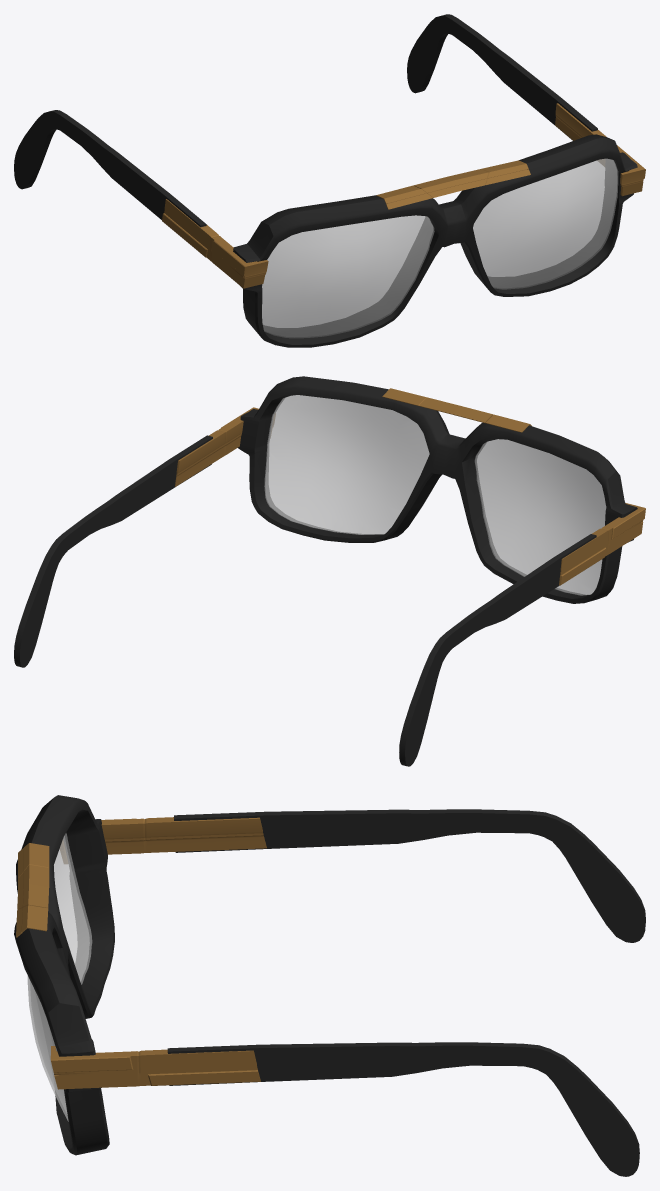
File: glasses.glb
3 renders of one model, top to bottom at view 1: azimuth 30°, elevation 25°; view 2: azimuth 150°, elevation 25°; view 3: azimuth 270°, elevation 25°, orthographic. The views are drawn at different scales.
Parts seen in each view (by area): view 1: Lens, Frame, TempleTip, Temples, Bridge; view 2: Lens, Frame, TempleTip, Temples, Bridge; view 3: TempleTip, Frame, Temples, Lens, Bridge.
Boxes of the visible parts, box(x1,y1,x2,y2) form: Lens: box(262, 158, 618, 338); Frame: box(233, 134, 637, 347); TempleTip: box(14, 14, 597, 227); Temples: box(162, 103, 645, 288); Bridge: box(376, 160, 530, 209); Lens: box(264, 395, 606, 595); Frame: box(238, 376, 637, 603); TempleTip: box(14, 435, 596, 766); Temples: box(175, 407, 645, 585); Bridge: box(382, 388, 531, 432); TempleTip: box(167, 809, 645, 1176); Frame: box(14, 795, 114, 1155); Temples: box(50, 817, 266, 1089); Lens: box(27, 833, 92, 1121); Bridge: box(16, 843, 49, 937).
Size of the model in its own units: 0.6453 by 0.2293 by 0.7057.
